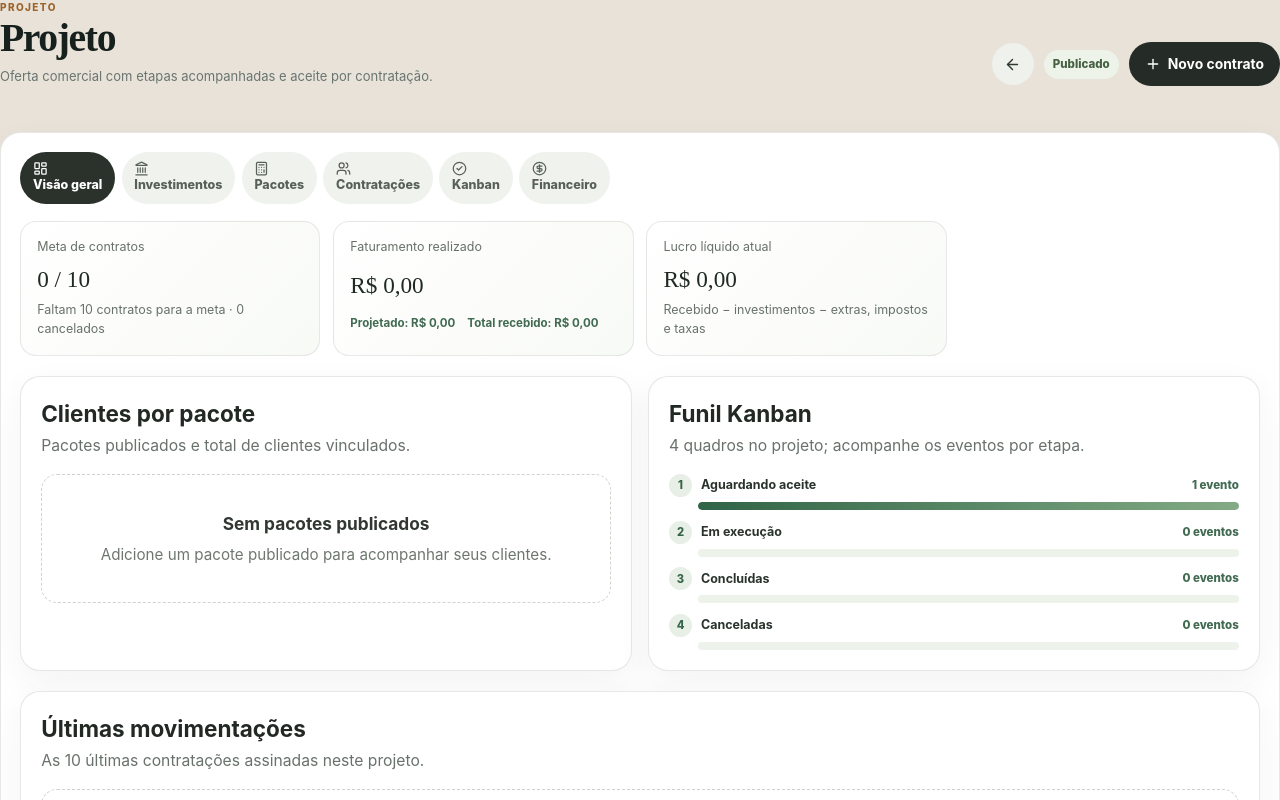
kanban board editing › moves a card to another board by drag and drop
Click the button "Kanban".
click(476, 178)  # box [439,152,513,204]
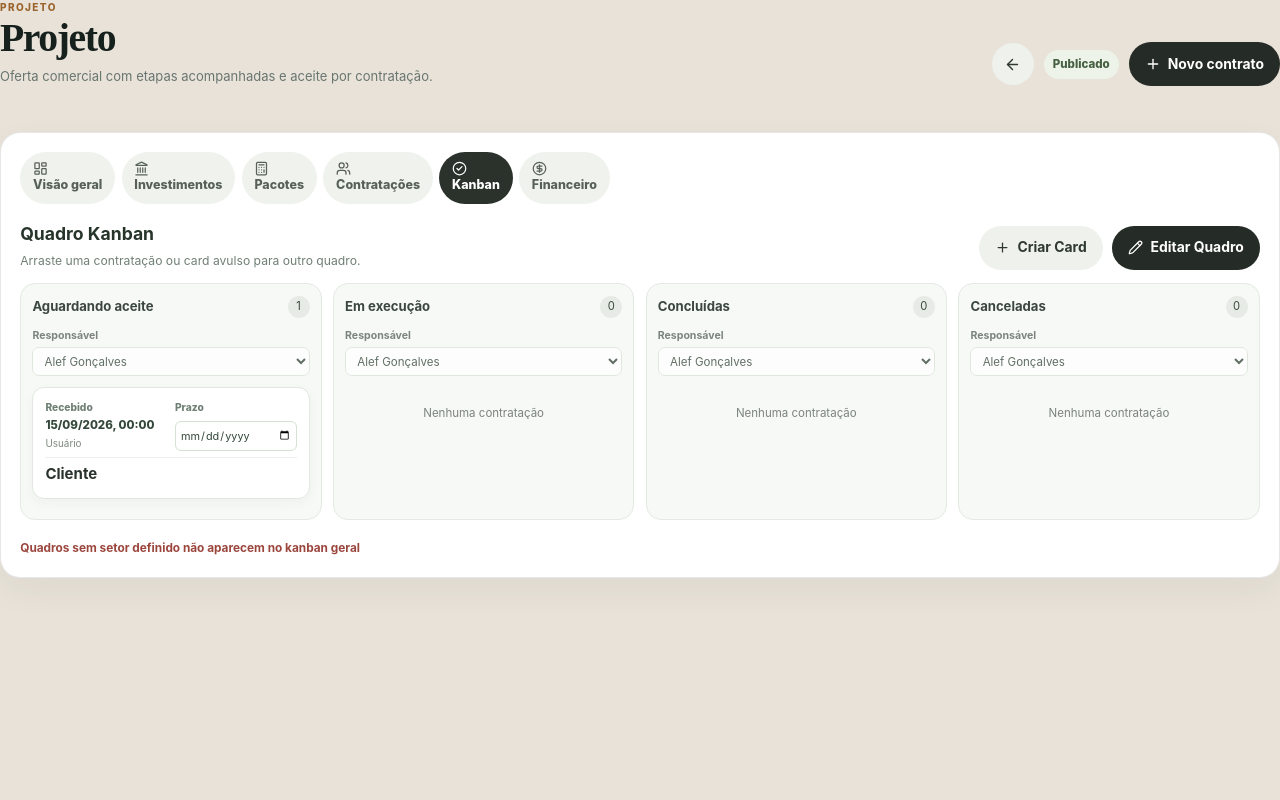
Expected: the text "Cliente" is shown, [45,464,97,483]
Expected: the text "Em execução" is shown, [345,298,430,314]
